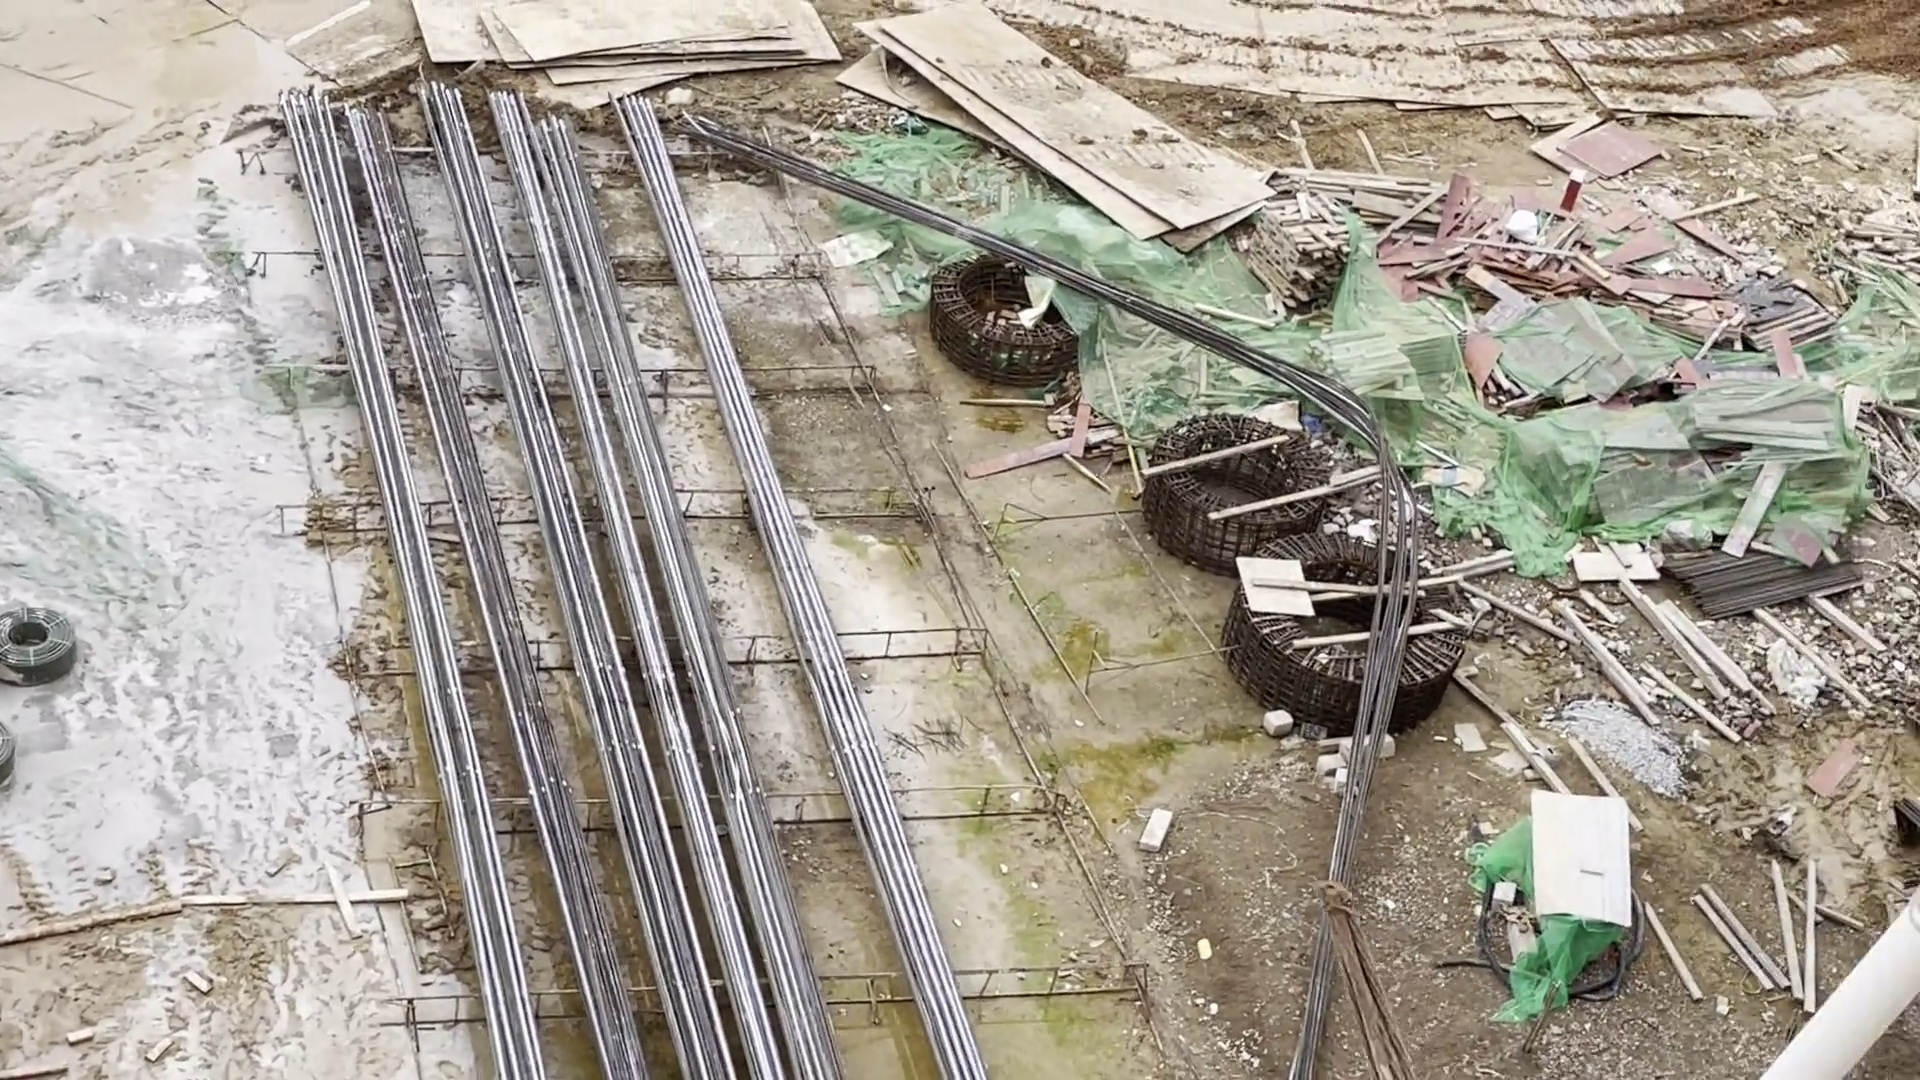board: (1425, 207, 1712, 301)
rebar: (273, 80, 839, 1080)
